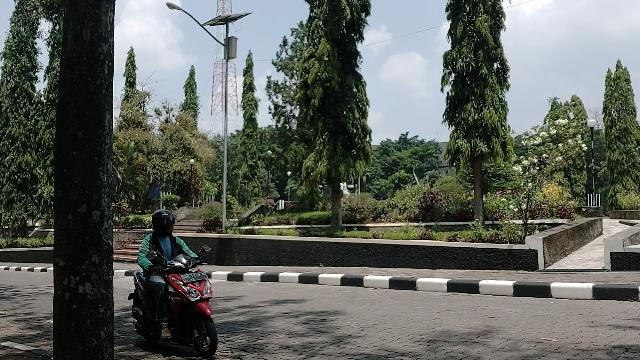helm: (152, 209, 176, 239)
motor: (128, 244, 221, 360)
